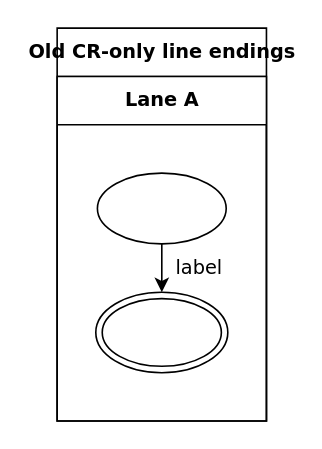
Some shapes in this 322 by 449 pixel diagram are drawn without their labels. Each missing label, with the centre of its shape:
"Done" belongs at pixel 161 332.
"Enter" belongs at pixel 161 207.
